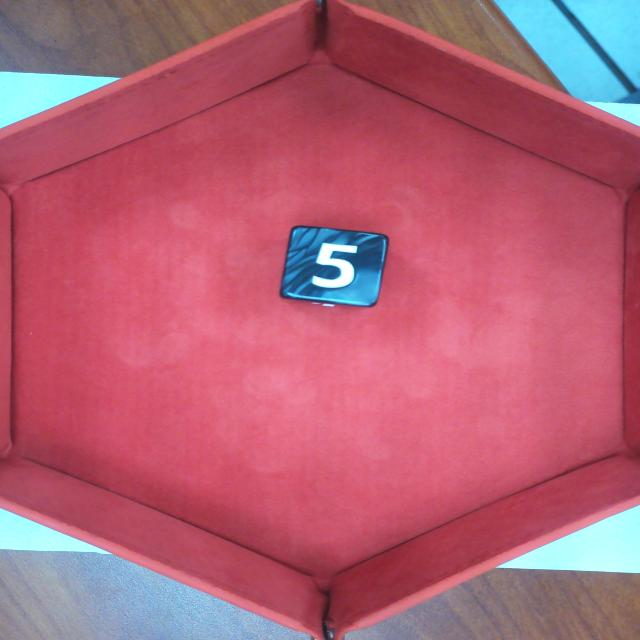dice: (279, 226, 389, 307)
